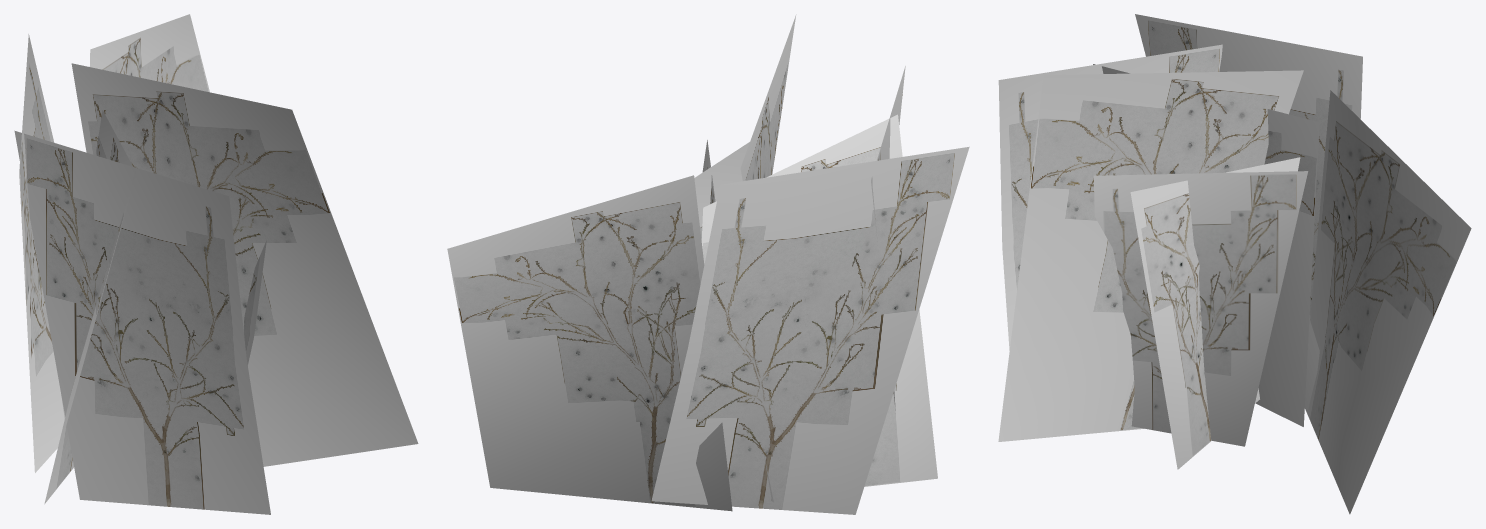
Rendered from Bush3.fbx.
3 views of the same model, side by side, from view 1: azimuth 30°, elevation 25°; view 2: azimuth 150°, elevation 25°; view 3: azimuth 270°, elevation 25° (orthographic). The views are drawn at different scales.
Parts seen in each view (by area): view 1: LOD0; view 2: LOD0; view 3: LOD0.
Boxes of the visible parts, box(x1,y1,x2,y2) form: LOD0: box(14, 14, 418, 514); LOD0: box(447, 14, 969, 514); LOD0: box(998, 14, 1471, 514).
Size of what is drawn, in the model's own units: 228 by 241 by 268.
